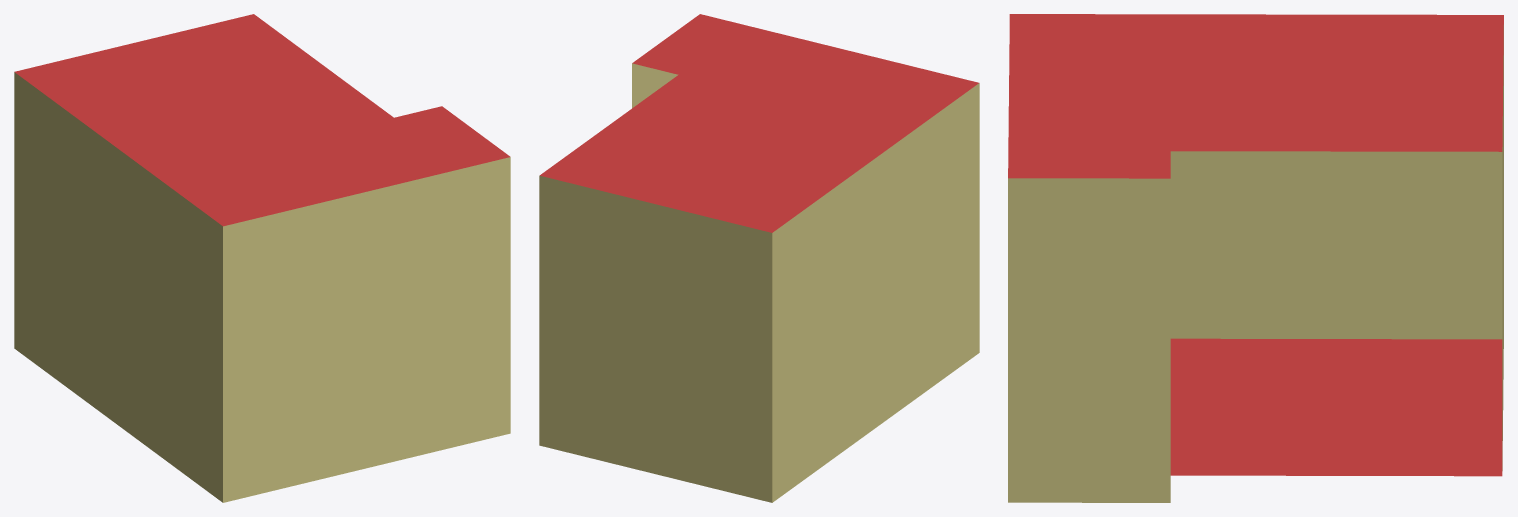
The picture shows the model from 3 angles, left to right: view 1: azimuth 30°, elevation 25°; view 2: azimuth 150°, elevation 25°; view 3: azimuth 270°, elevation 25°; orthographic projection. The views are drawn at different scales.
Bounding box in the file's own units: 6.57 × 8.37 × 6.04.
